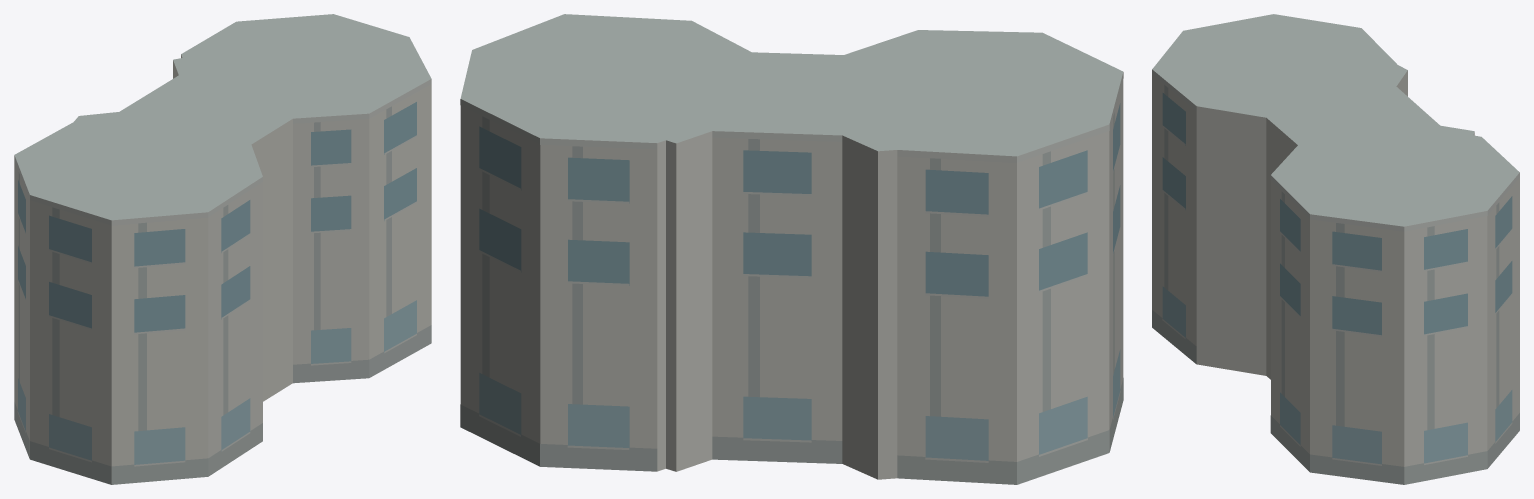
The model's file is survey-upis-33031218.glb.
3 views of the same model, side by side, from view 1: azimuth 30°, elevation 25°; view 2: azimuth 150°, elevation 25°; view 3: azimuth 270°, elevation 25° (orthographic). The views are drawn at different scales.
Visible parts, largest first — view 1: survey-upis-33031218.tmp; view 2: survey-upis-33031218.tmp; view 3: survey-upis-33031218.tmp.
Part boxes in pixels (x1,y1,x2,y2): survey-upis-33031218.tmp: (14,14,431,484); survey-upis-33031218.tmp: (460,14,1123,484); survey-upis-33031218.tmp: (1152,14,1519,484).
Bounding box in the file's own units: 21.56 × 12.2 × 15.75.
